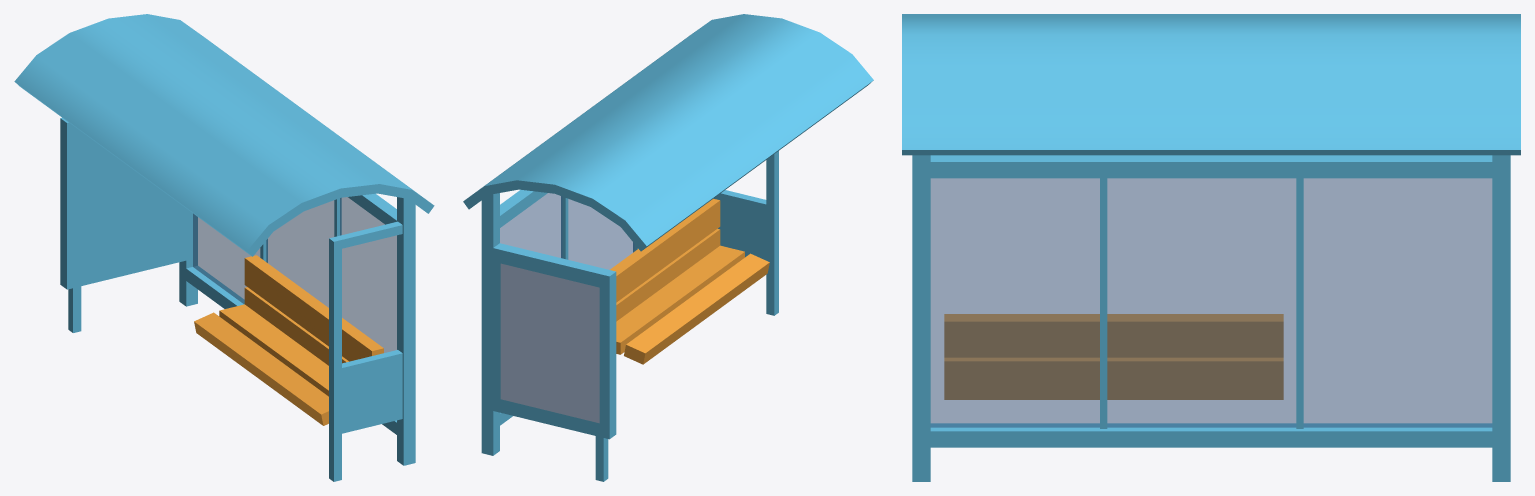
File: bus_stop.fbx
The picture shows the model from 3 angles, left to right: view 1: azimuth 30°, elevation 25°; view 2: azimuth 150°, elevation 25°; view 3: azimuth 270°, elevation 25°; orthographic projection. The views are drawn at different scales.
Visible parts, largest first — view 1: bus_stop; view 2: bus_stop; view 3: bus_stop.
Part boxes in pixels (x1,y1,x2,y2): bus_stop: (14,14,434,481); bus_stop: (463,14,873,481); bus_stop: (902,14,1520,481).
Bounding box in the file's own units: 63.5 × 95.74 × 136.
